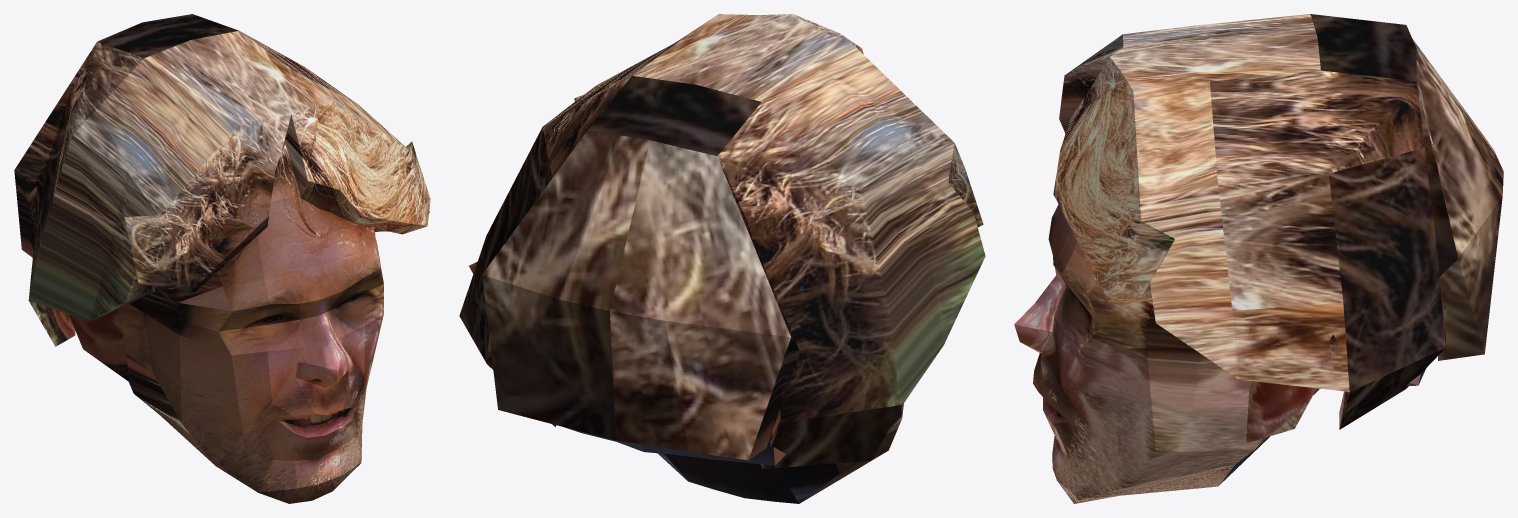
Rendered from julian.glb.
The picture shows the model from 3 angles, left to right: view 1: azimuth 30°, elevation 25°; view 2: azimuth 150°, elevation 25°; view 3: azimuth 270°, elevation 25°; orthographic projection. The views are drawn at different scales.
Visible parts, largest first — view 1: Julian.001; view 2: Julian.001; view 3: Julian.001.
Part boxes in pixels (bbox=[...]): Julian.001: bbox=[14, 14, 430, 503]; Julian.001: bbox=[459, 14, 985, 503]; Julian.001: bbox=[1014, 14, 1503, 503].
Bounding box in the file's own units: 1.97 × 2.13 × 2.11.
Materials: 1 (1 with a texture image).
